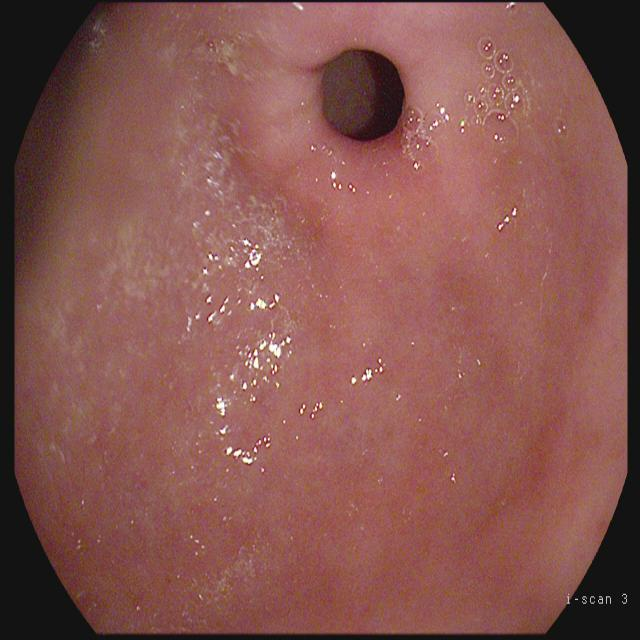normal-pylorus: (209, 0, 486, 258)
